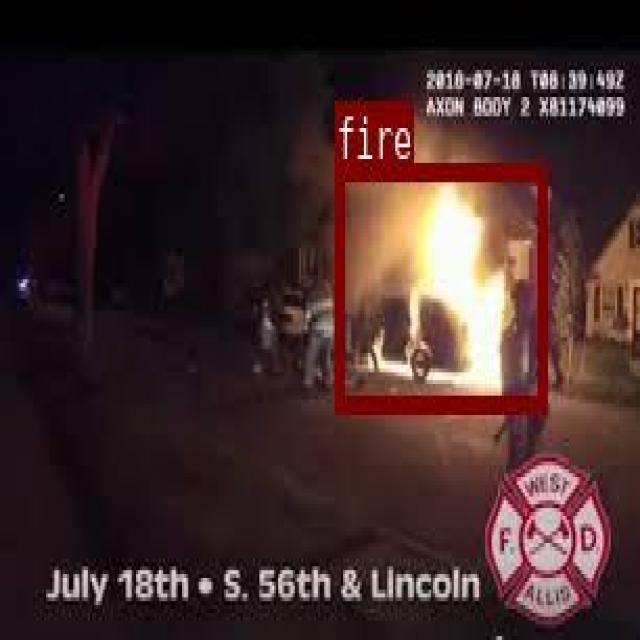fire: (333, 162, 546, 410)
